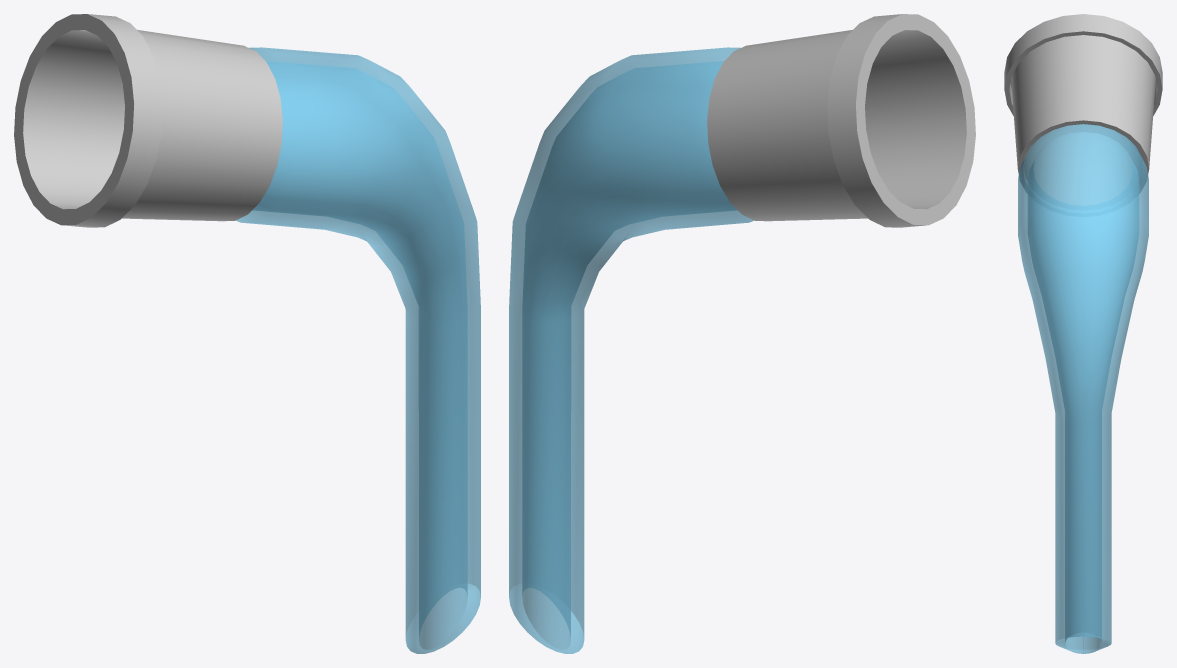
Rendered from alonge.obj.
3 views of the same model, side by side, from view 1: azimuth 30°, elevation 25°; view 2: azimuth 150°, elevation 25°; view 3: azimuth 270°, elevation 25° (orthographic). The views are drawn at different scales.
Parts seen in each view (by area): view 1: Cylinder.015_Cylinder.016, Cylinder_Cylinder.017; view 2: Cylinder.015_Cylinder.016, Cylinder_Cylinder.017; view 3: Cylinder.015_Cylinder.016, Cylinder_Cylinder.017.
Part boxes in pixels (x1,y1,x2,y2): Cylinder.015_Cylinder.016: (236, 47, 480, 653); Cylinder_Cylinder.017: (14, 14, 282, 227); Cylinder.015_Cylinder.016: (509, 47, 753, 653); Cylinder_Cylinder.017: (707, 14, 975, 227); Cylinder.015_Cylinder.016: (1018, 124, 1148, 653); Cylinder_Cylinder.017: (1004, 14, 1162, 205).
Size of the model in its own units: 0.0743 by 0.1167 by 0.0319.
